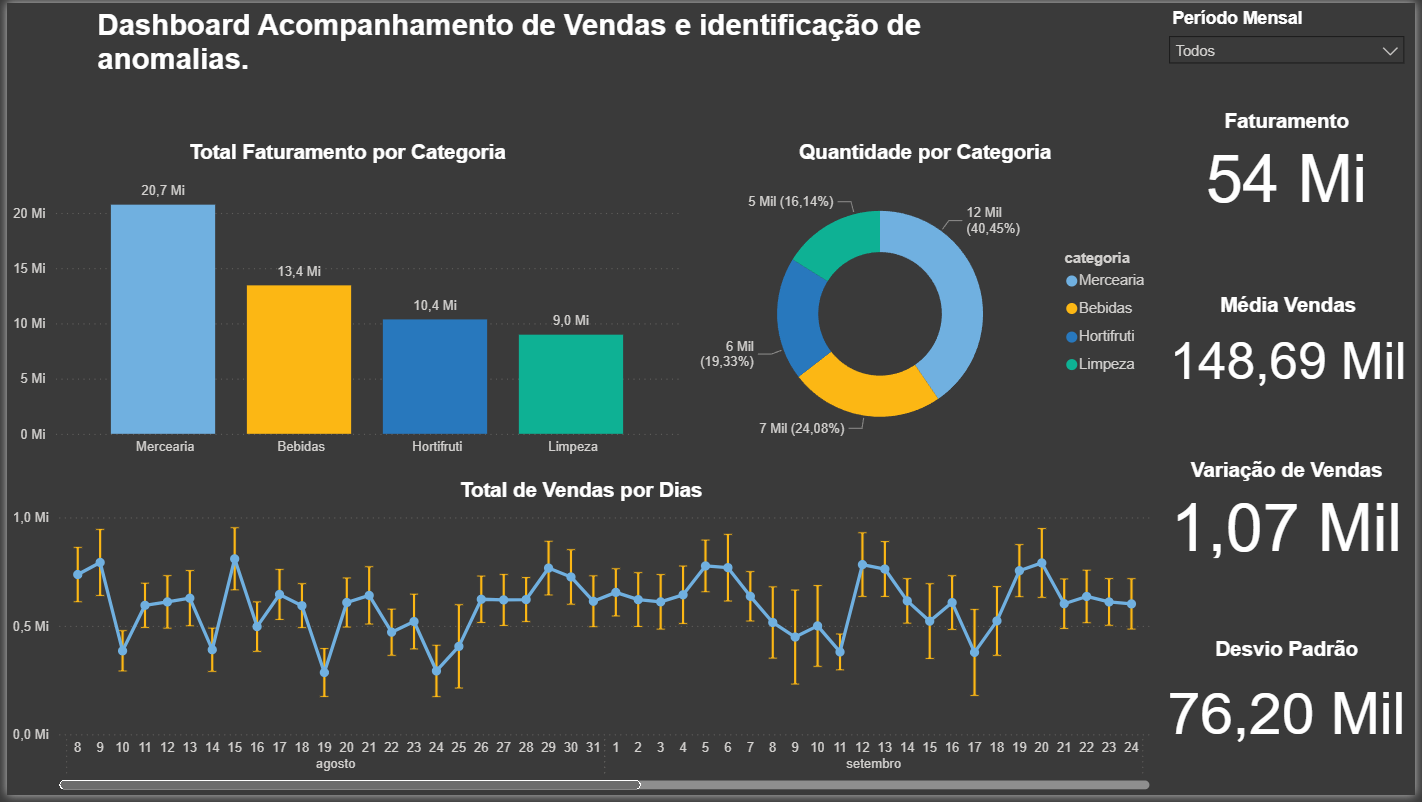

The page's visual inventory and layout, read from the dashboard file:
{"tool":"powerbi","page":{"name":"Página 1","canvas":[1280,720],"ordinal":0},"visuals":[{"type":"card","title":"Média Vendas","fields":{"Values":["Avg(vendas.valor)"]},"box":[1048.9,264,231.1,96],"z":0},{"type":"card","title":"Faturamento","fields":{"Values":["Sum(vendas.valor)"]},"box":[1046.2,96,233.8,96],"z":1000},{"type":"card","title":"Desvio Padrão","fields":{"Values":["Sum(vendas.valor)"]},"box":[1046.2,576,233.8,109.3],"z":2000},{"type":"card","title":"Variação de Vendas","fields":{"Values":["Sum(vendas.quantidade)"]},"box":[1046.2,413.3,233.8,96],"z":3000},{"type":"donutChart","title":"Quantidade por Categoria","fields":{"Category":["vendas.categoria"],"Y":["Sum(vendas.quantidade)"]},"box":[621.3,124.4,427.6,295.1],"z":4000},{"type":"lineChart","title":"Total de Vendas por Dias","fields":{"Category":["vendas.data.Variation.Hierarquia de datas.Mês","vendas.data.Variation.Hierarquia de datas.Dia"],"Y":["Sum(vendas.valor)"]},"box":[0,432,1043.6,288],"z":5000},{"type":"slicer","title":"Período","fields":{"Values":["vendas.data.Variation.Hierarquia de datas.Mês"]},"box":[1046.4,0,233.6,81.8],"z":6000},{"type":"clusteredColumnChart","title":"Total Faturamento por Categoria","fields":{"Y":["Sum(vendas.valor)"],"Category":["vendas.categoria"]},"box":[0,124.4,618.7,295.1],"z":7000},{"type":"textbox","box":[77.3,0,805.5,96.4],"z":8000}]}

Visuals, with their boxes in screenshot pixels (x1, y1, x2, y2), scaled from the page's 1280x720 canvas onto the 1422x802 screenshot:
"Média Vendas" card: pyautogui.locateOnScreen(1165, 294, 1421, 401)
"Faturamento" card: pyautogui.locateOnScreen(1162, 107, 1421, 214)
"Desvio Padrão" card: pyautogui.locateOnScreen(1162, 642, 1421, 763)
"Variação de Vendas" card: pyautogui.locateOnScreen(1162, 460, 1421, 567)
"Quantidade por Categoria" donutChart: pyautogui.locateOnScreen(690, 139, 1165, 467)
"Total de Vendas por Dias" lineChart: pyautogui.locateOnScreen(0, 481, 1159, 801)
"Período" slicer: pyautogui.locateOnScreen(1162, 0, 1421, 91)
"Total Faturamento por Categoria" clusteredColumnChart: pyautogui.locateOnScreen(0, 139, 687, 467)
textbox: pyautogui.locateOnScreen(86, 0, 981, 107)
